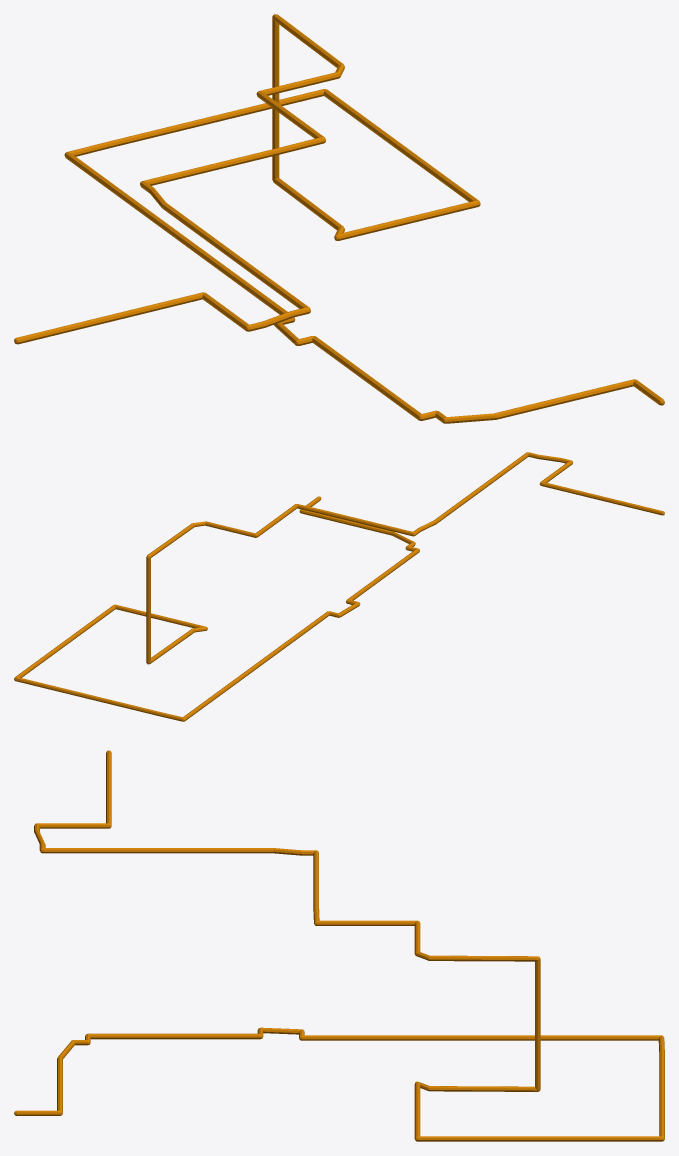
The picture shows the model from 3 angles, top to bottom: view 1: azimuth 30°, elevation 25°; view 2: azimuth 150°, elevation 25°; view 3: azimuth 270°, elevation 25°; orthographic projection. The views are drawn at different scales.
Size of the model in its own units: 2121 by 520 by 2263.
